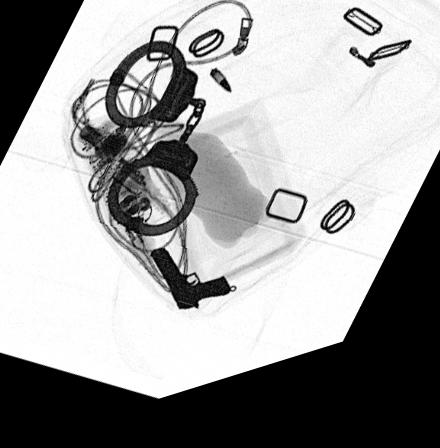Bullet: (208, 80, 231, 108)
Gun: (148, 254, 230, 321)
HandCuffs: (101, 46, 207, 245)
